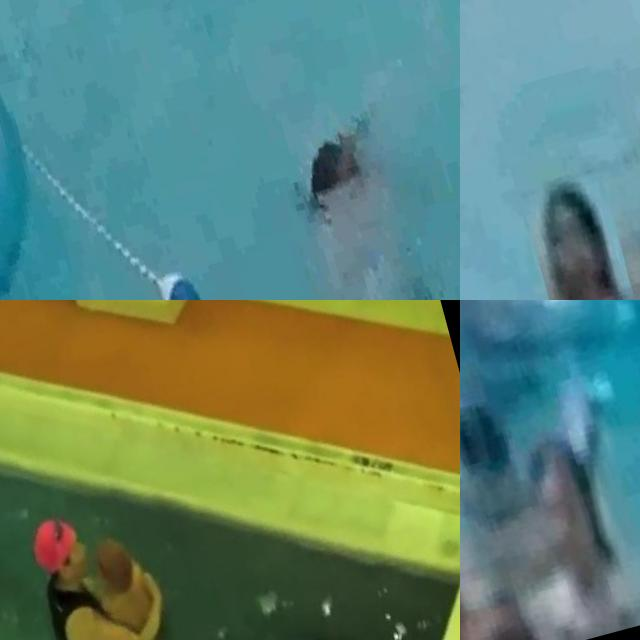drowning: (238, 34, 460, 300), (460, 353, 533, 529)
swimming: (521, 416, 640, 640), (20, 498, 178, 640), (519, 171, 639, 300)
